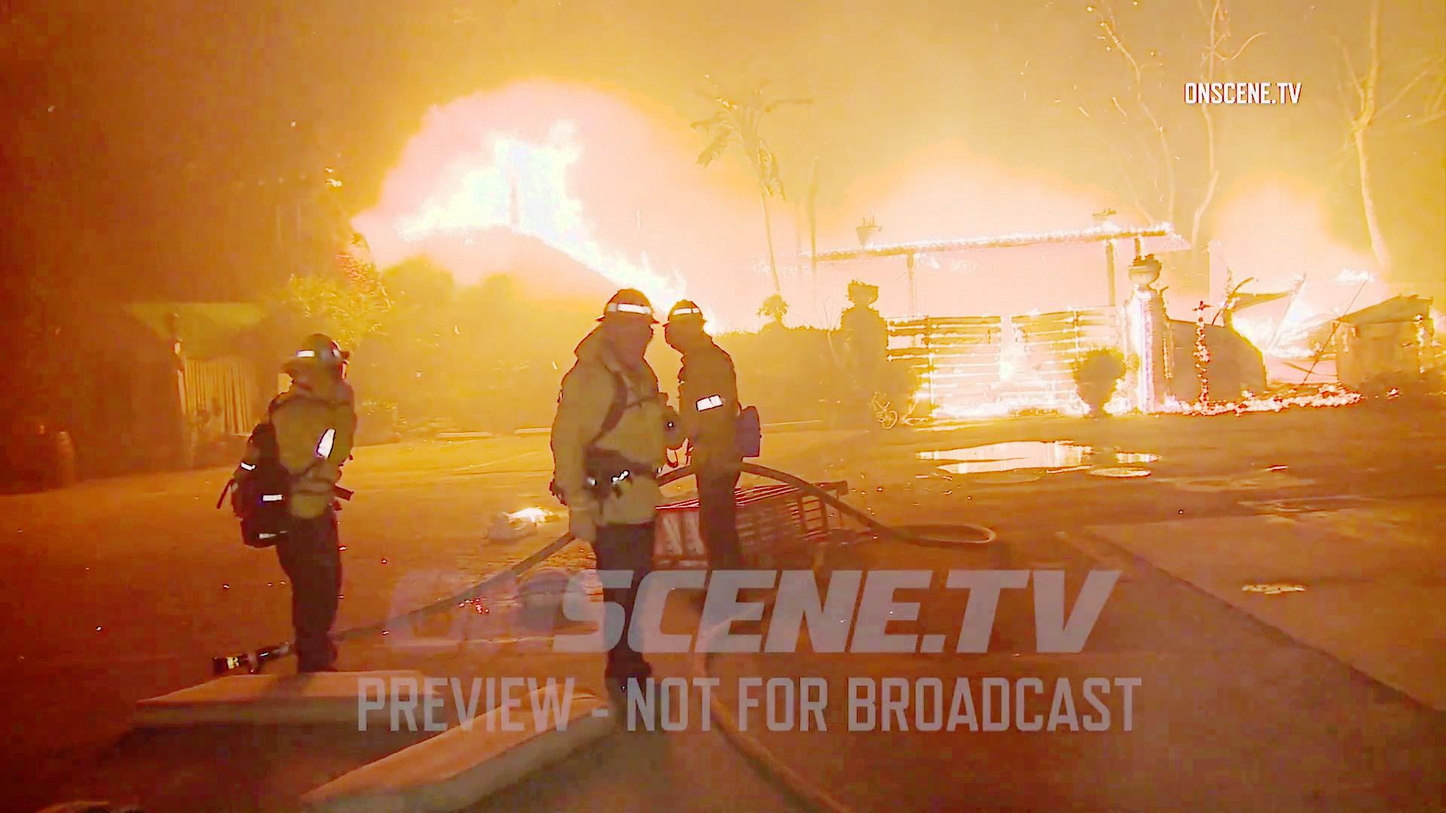fire: (396, 125, 576, 246), (923, 326, 1081, 411), (1198, 267, 1319, 356)
